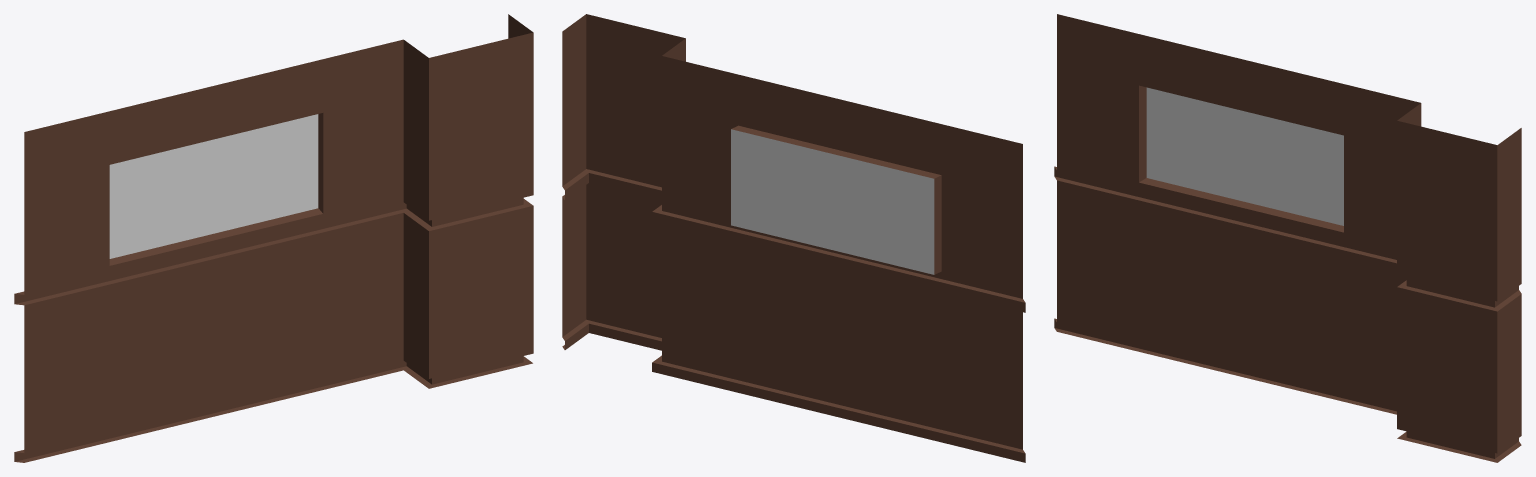
File: brutalismroomxup.fbx
3 renders of one model, left to right at view 1: azimuth 30°, elevation 25°; view 2: azimuth 150°, elevation 25°; view 3: azimuth 330°, elevation 25°, orthographic. The views are drawn at different scales.
Parts seen in each view (by area): view 1: brutalistm room; view 2: brutalistm room; view 3: brutalistm room.
Part boxes in pixels (left/top/right/bottom): brutalistm room: left=14, top=14, right=533, bottom=462; brutalistm room: left=562, top=14, right=1025, bottom=462; brutalistm room: left=1054, top=14, right=1521, bottom=462.
Size of the model in its own units: 2.47 by 0.4274 by 3.83.
